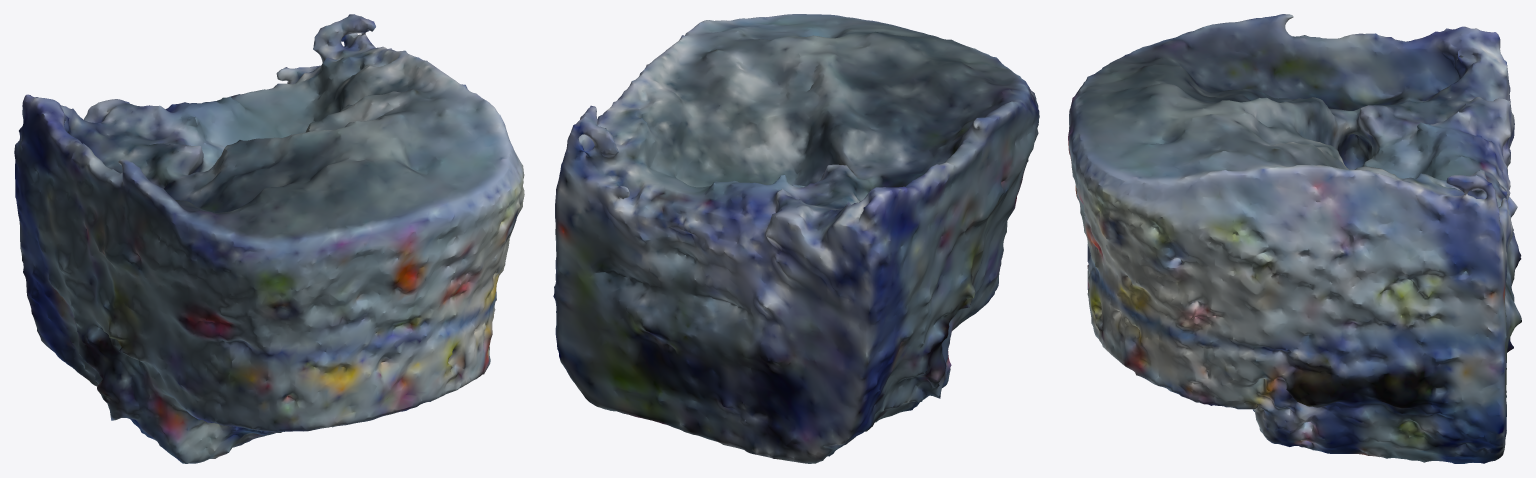
Rendered from backpack.glb.
The picture shows the model from 3 angles, left to right: view 1: azimuth 30°, elevation 25°; view 2: azimuth 150°, elevation 25°; view 3: azimuth 270°, elevation 25°; orthographic projection. The views are drawn at different scales.
Bounding box in the file's own units: 0.9375 × 0.7882 × 0.9936.
